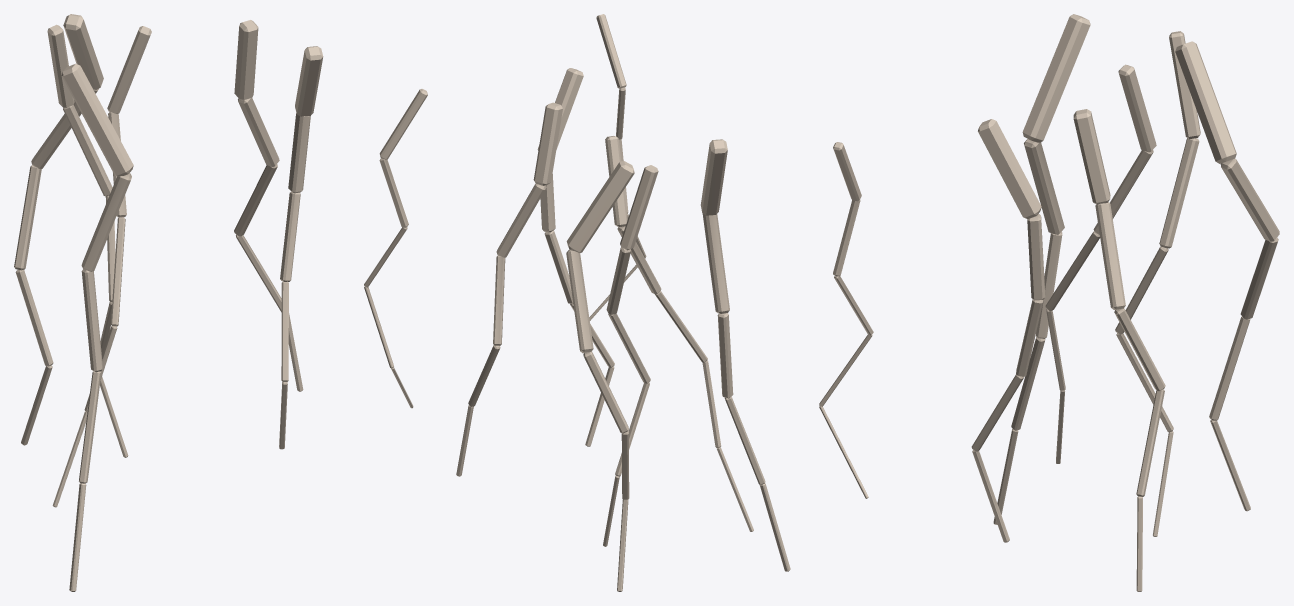
The model's file is dngp_roots.glb.
The picture shows the model from 3 angles, left to right: view 1: azimuth 30°, elevation 25°; view 2: azimuth 150°, elevation 25°; view 3: azimuth 270°, elevation 25°; orthographic projection. The views are drawn at different scales.
Parts seen in each view (by area): view 1: root; view 2: root; view 3: root.
Boxes of the visible parts, x1,y1,x2,y2 form: root: [14, 14, 427, 591]; root: [456, 14, 790, 591]; root: [819, 14, 1279, 591].
Bounding box in the file's own units: 0.844 × 1.32 × 1.04.
